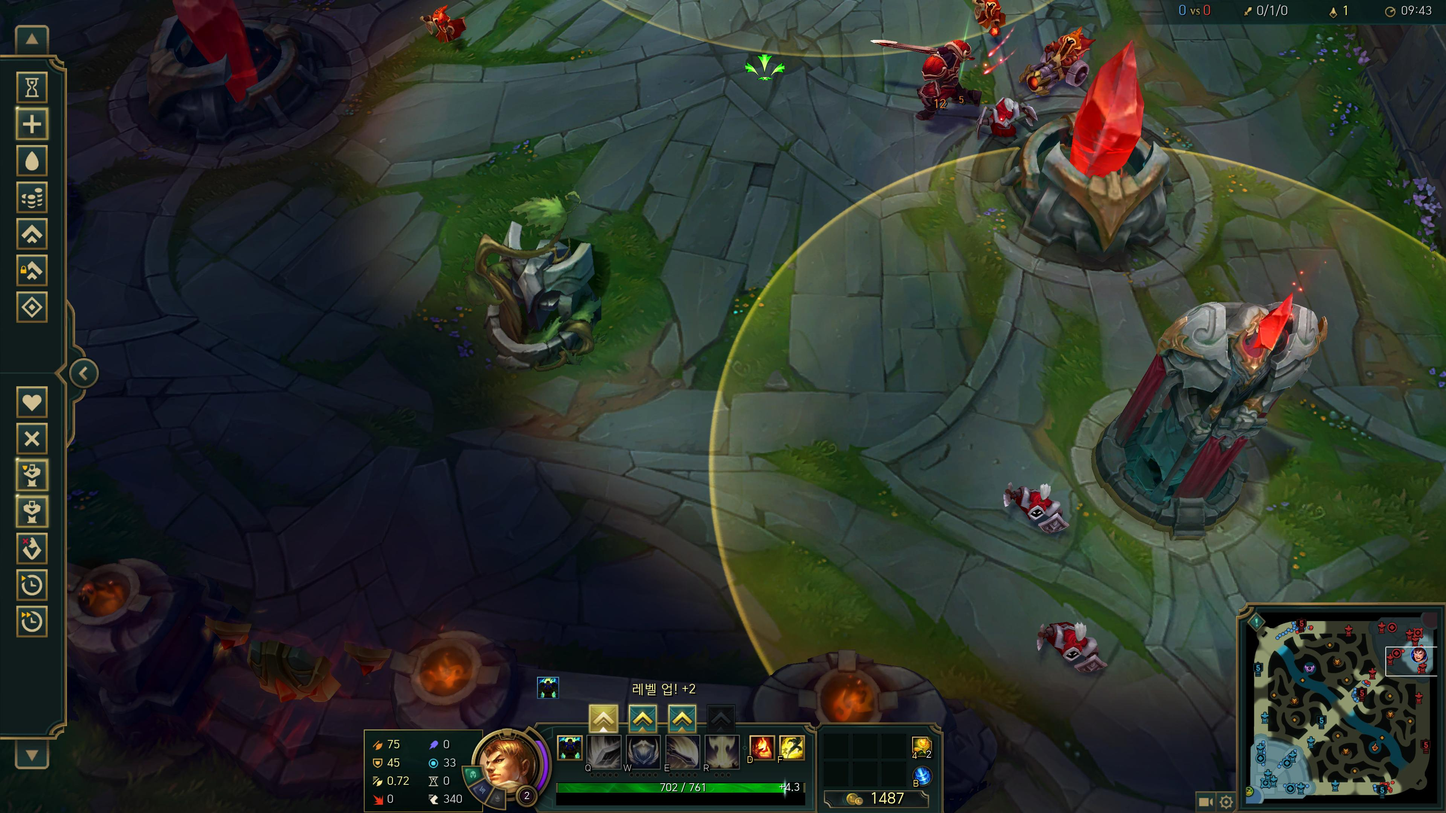enemy-caster-minion: (419, 2, 465, 40), (974, 0, 1008, 34)
enemy-melee-minion: (1038, 621, 1109, 673), (1004, 482, 1070, 535), (978, 95, 1040, 136)
enemy-siege-minion: (1020, 25, 1095, 94)
enemy-tower: (1096, 292, 1330, 538)
